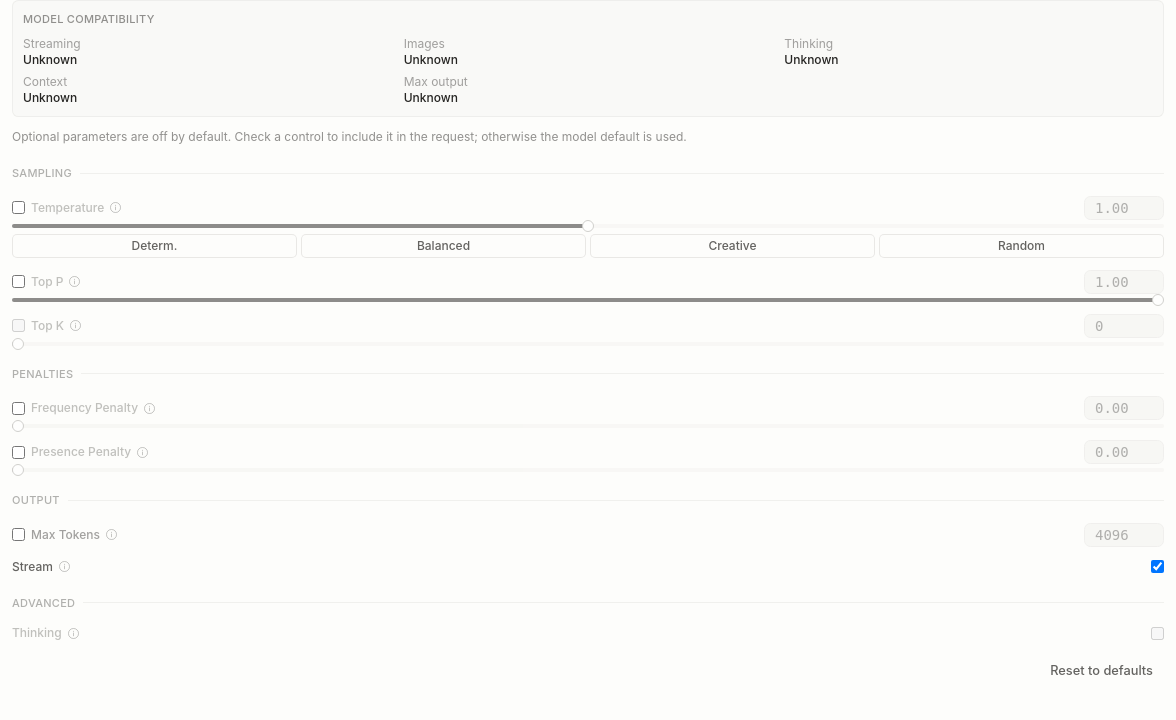
Scenario: ParameterControls › keeps optional param inputs disabled until the include toggle is checked
The image size is (1176, 720).
Expected: the number field labelled "Temperature" is disabled, [1084, 196, 1164, 220]
Expected: the number field labelled "Max Tokens" is disabled, [1084, 522, 1164, 546]
Click the checkbox named "Include Temperature". click: (18, 208)
box: [12, 201, 25, 214]
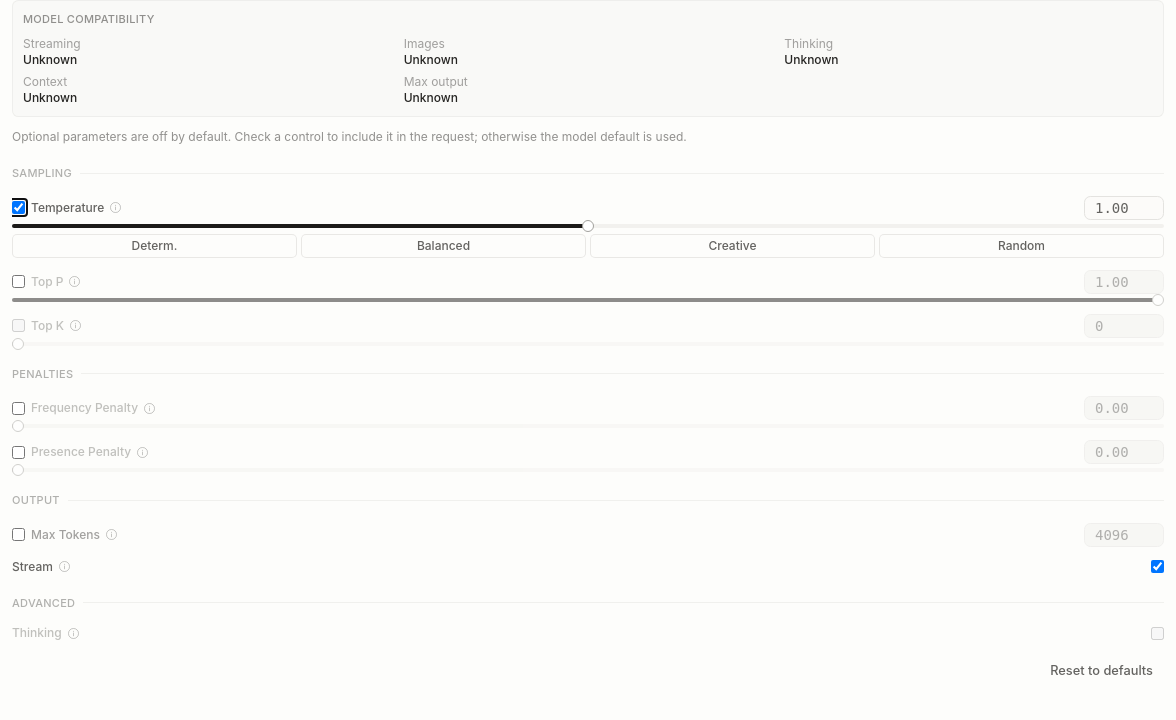
Expected: the number field labelled "Temperature" is enabled, [1084, 196, 1164, 220]
Click the checkbox named "Include Max Tokens". click: (18, 534)
box: [12, 528, 25, 541]
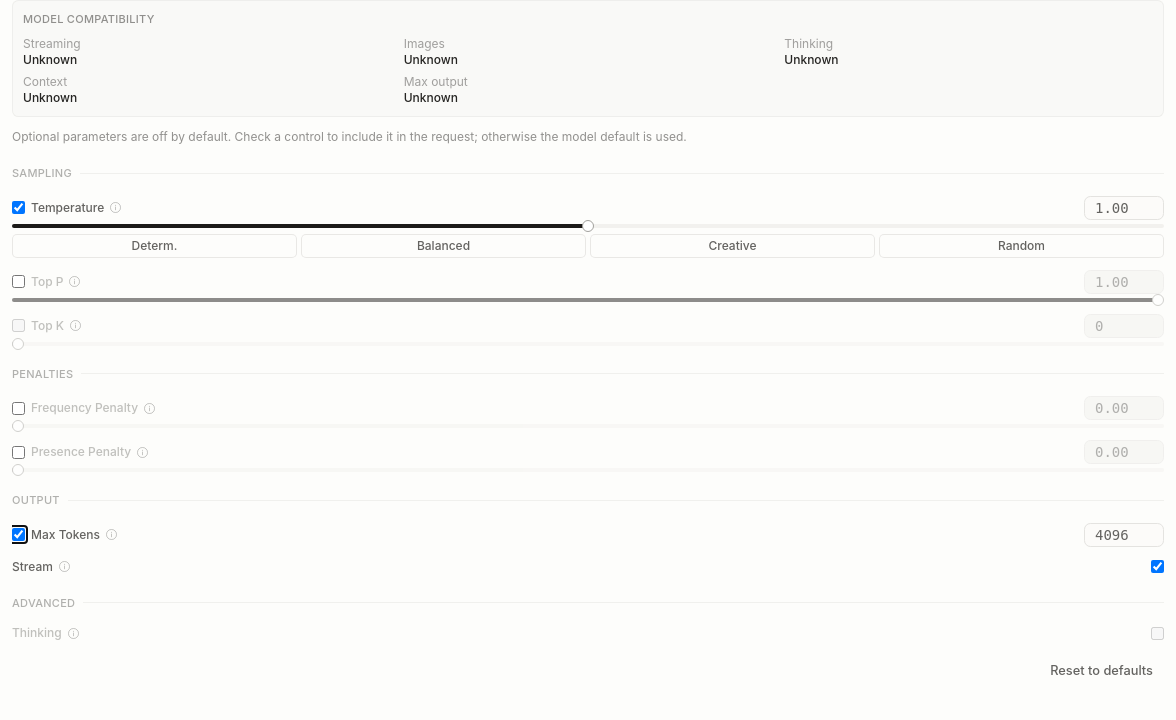
Expected: the number field labelled "Max Tokens" is enabled, [1084, 522, 1164, 546]
